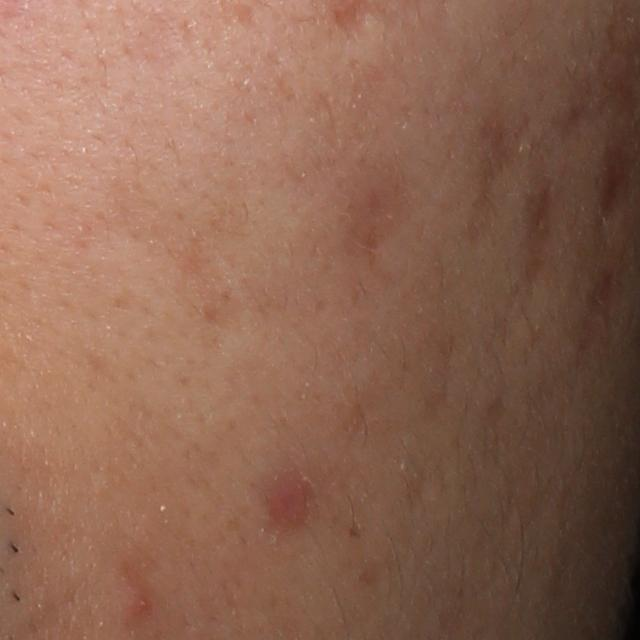atrophic_scar: (461, 121, 529, 245), (340, 146, 412, 258), (523, 174, 562, 283), (592, 142, 630, 223), (230, 4, 265, 40)
papule: (271, 481, 312, 531)
